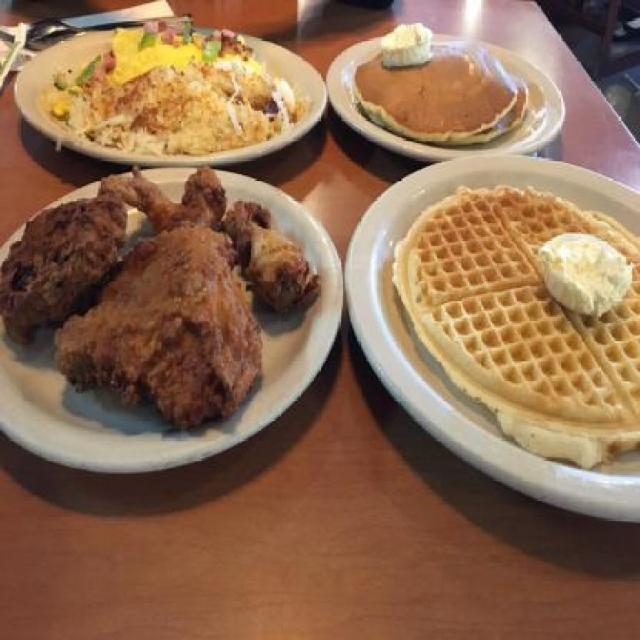chicken wings: (112, 167, 322, 316)
ice cream: (539, 231, 630, 311), (376, 21, 436, 70)
omelette: (59, 24, 301, 150)
pancakes: (352, 42, 530, 143)
waffles: (393, 180, 639, 469)
